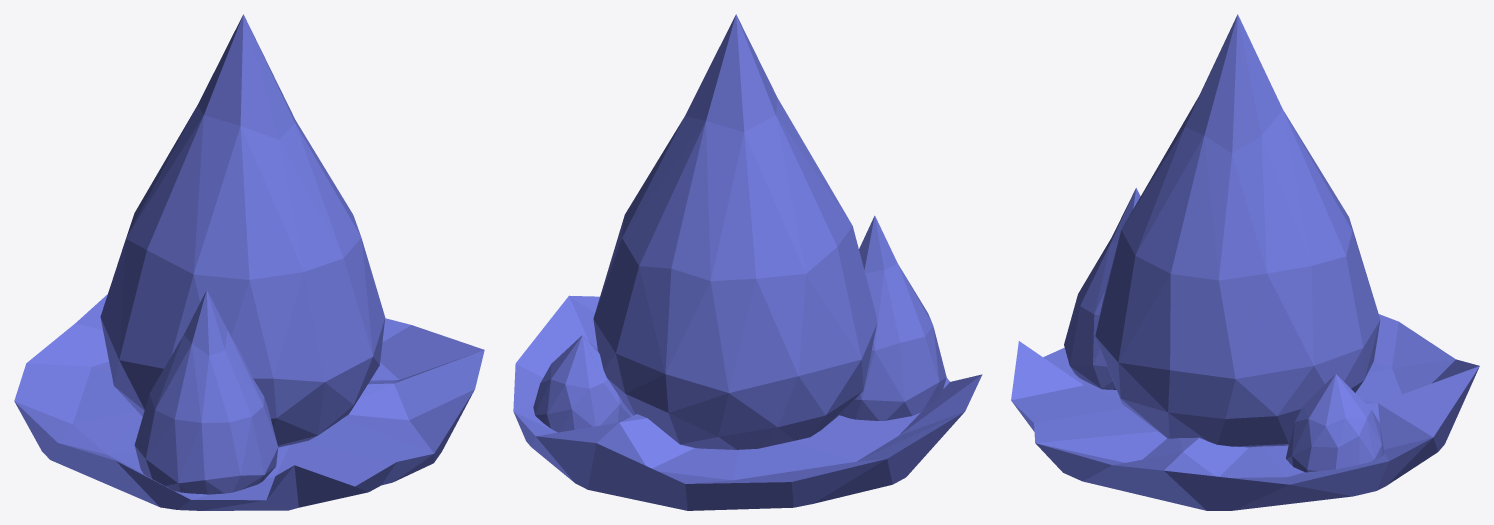
The model's file is Big_Water.fbx.
3 views of the same model, side by side, from view 1: azimuth 30°, elevation 25°; view 2: azimuth 150°, elevation 25°; view 3: azimuth 270°, elevation 25° (orthographic).
Parts seen in each view (by area): view 1: Circle; view 2: Circle; view 3: Circle.
Part boxes in pixels (x1,y1,x2,y2): Circle: (14,14,484,510); Circle: (513,14,982,510); Circle: (1011,14,1479,510).
Size of the model in its own units: 376 by 358 by 372.
